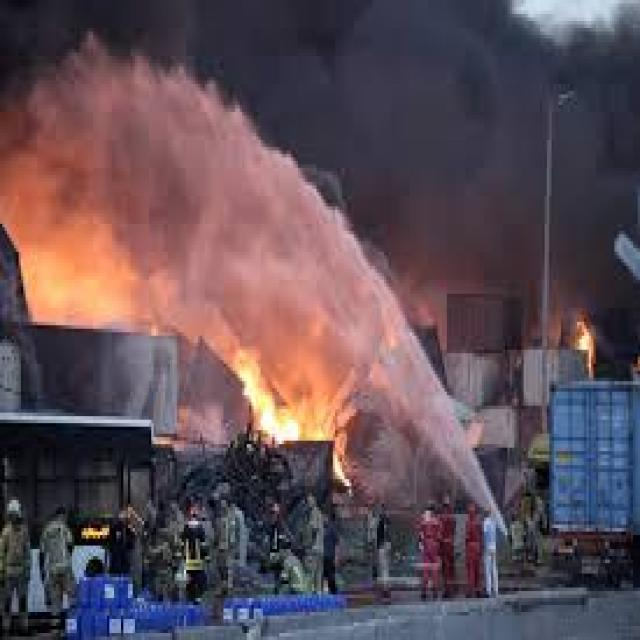explosion: (69, 39, 577, 604)
